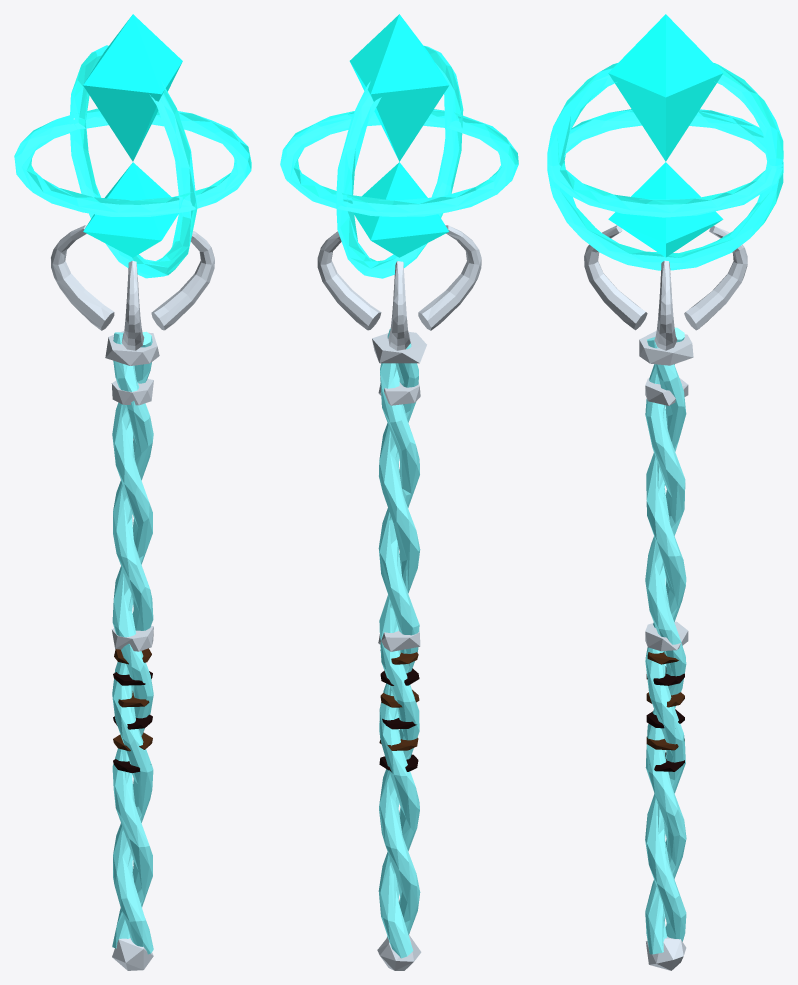
File: staff_2.glb
3 views of the same model, side by side, from view 1: azimuth 30°, elevation 25°; view 2: azimuth 150°, elevation 25°; view 3: azimuth 270°, elevation 25° (orthographic).
Parts seen in each view (by area): view 1: part_02, part_01, part_15, part_13, part_16, part_14, part_19, part_17, part_18, part_10, part_09, part_11 (+1 smaller); view 2: part_01, part_02, part_15, part_13, part_16, part_14, part_18, part_17, part_19, part_10, part_09, part_12 (+1 smaller); view 3: part_01, part_16, part_02, part_13, part_15, part_14, part_18, part_19, part_17, part_10, part_09, part_12 (+1 smaller).
Boxes of the visible parts, x1,y1,x2,y2 form: part_02: (112, 332, 153, 954); part_01: (112, 331, 153, 948); part_15: (14, 108, 251, 216); part_13: (83, 14, 182, 161); part_16: (69, 45, 197, 278); part_14: (83, 162, 178, 257); part_19: (51, 225, 114, 330); part_17: (151, 231, 214, 330); part_18: (121, 260, 144, 350); part_10: (105, 331, 159, 365); part_09: (112, 938, 153, 970); part_11: (111, 379, 153, 405); part_01: (378, 328, 419, 958); part_02: (379, 343, 420, 938); part_15: (280, 109, 518, 216); part_13: (349, 14, 449, 161); part_16: (336, 45, 463, 278); part_14: (354, 162, 448, 257); part_18: (418, 225, 481, 330); part_17: (317, 231, 381, 330); part_19: (388, 261, 410, 350); part_10: (372, 332, 426, 363); part_09: (377, 935, 421, 970); part_12: (378, 629, 420, 651); part_01: (645, 337, 686, 941); part_16: (547, 63, 783, 270); part_02: (645, 327, 686, 954); part_13: (608, 14, 723, 161); part_15: (547, 109, 783, 217); part_14: (608, 162, 723, 257); part_18: (584, 225, 647, 330); part_19: (684, 226, 747, 330); part_17: (654, 260, 677, 350); part_10: (639, 331, 693, 365); part_09: (646, 936, 686, 970); part_12: (645, 621, 688, 651).
Size of the model in its own units: 0.3584 by 1.59 by 0.3573.
